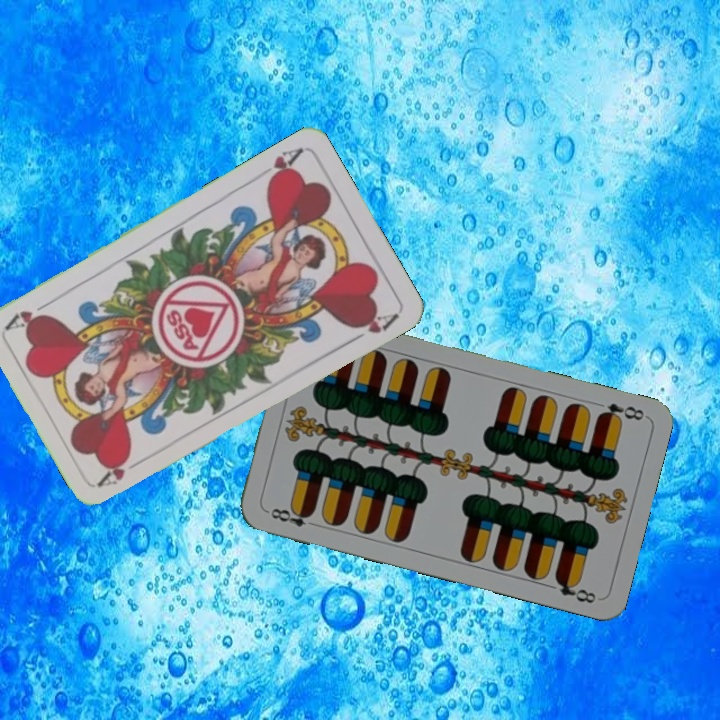E8: (262, 503, 320, 530), (593, 399, 647, 425)
HA: (252, 144, 306, 189), (94, 452, 149, 490)
